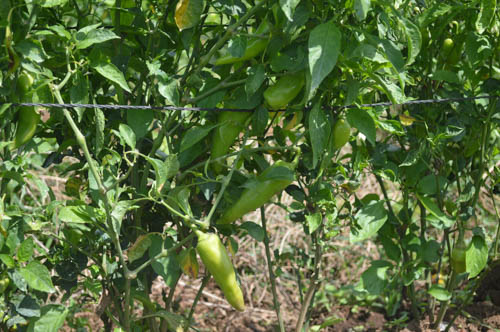ChiliPepper: (227, 162, 301, 218), (200, 237, 243, 307), (212, 104, 245, 168), (265, 73, 297, 108), (221, 38, 269, 58)
